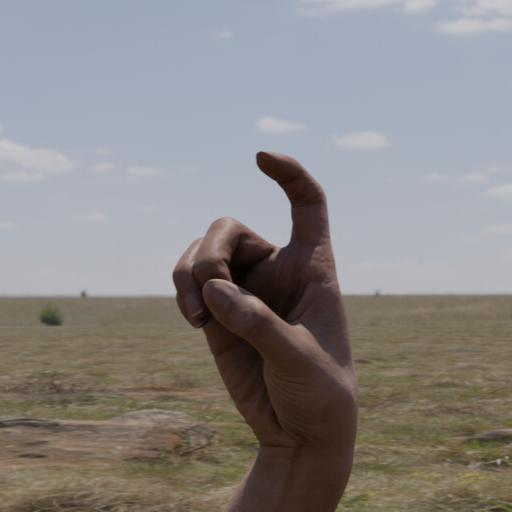X: (164, 144, 364, 462)
